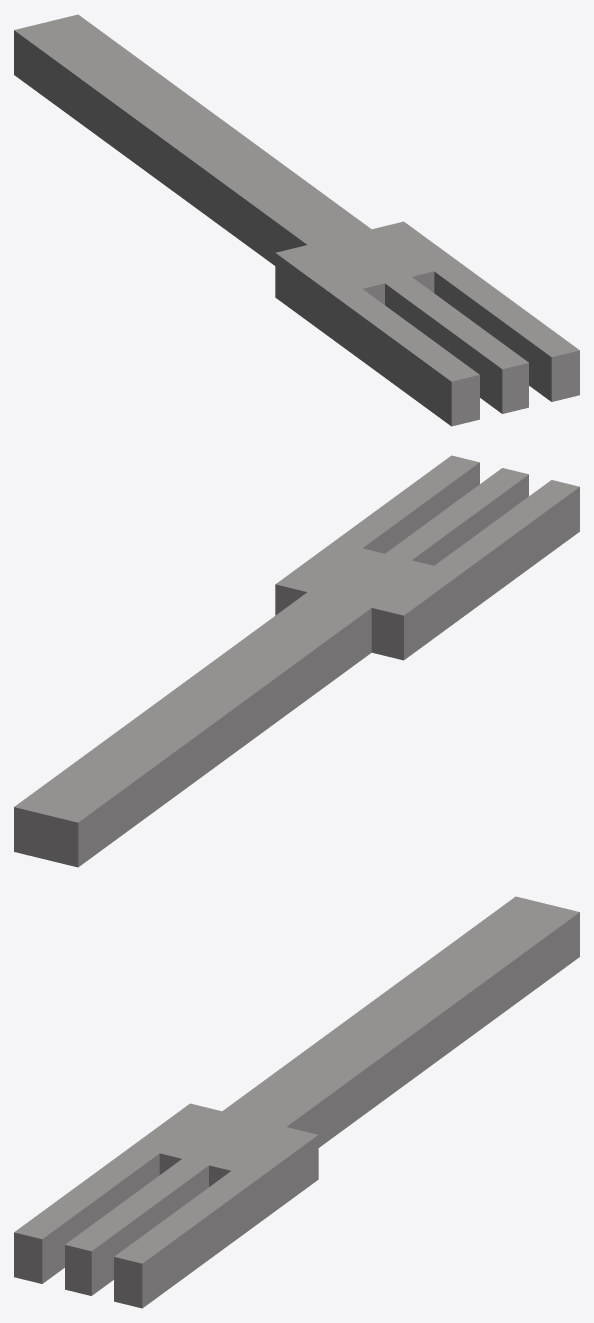
The model's file is ofork.FBX.
3 renders of one model, top to bottom at view 1: azimuth 30°, elevation 25°; view 2: azimuth 150°, elevation 25°; view 3: azimuth 330°, elevation 25°, orthographic.
Visible parts, largest first — view 1: Fork; view 2: Fork; view 3: Fork.
Part boxes in pixels (<box>): Fork: <box>14,14,579,426</box>; Fork: <box>14,455,579,867</box>; Fork: <box>14,896,579,1308</box>.
Size of the model in its own units: 6.11 by 38.67 by 2.04.
Materials: 1 (1 with a texture image).
